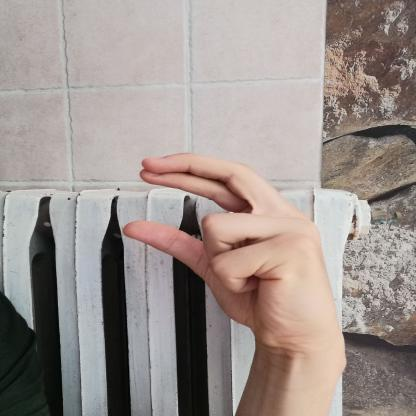DHELL: (109, 142, 361, 352)
